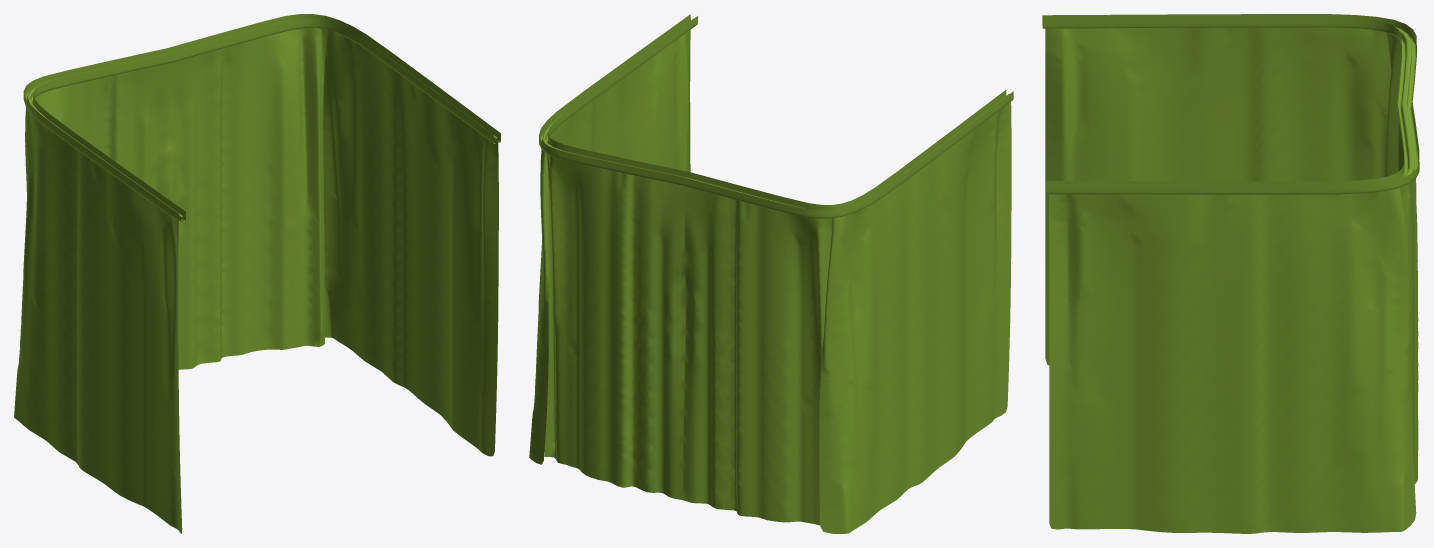
File: HospitalCurtain.fbx
The picture shows the model from 3 angles, left to right: view 1: azimuth 30°, elevation 25°; view 2: azimuth 150°, elevation 25°; view 3: azimuth 270°, elevation 25°; orthographic projection. The views are drawn at different scales.
Parts seen in each view (by area): view 1: HospitalCurtains; view 2: HospitalCurtains; view 3: HospitalCurtains.
Boxes of the visible parts, x1,y1,x2,y2 form: HospitalCurtains: [14, 14, 500, 533]; HospitalCurtains: [529, 14, 1013, 533]; HospitalCurtains: [1042, 14, 1419, 533].
Size of the model in its own units: 300 by 285 by 279.
